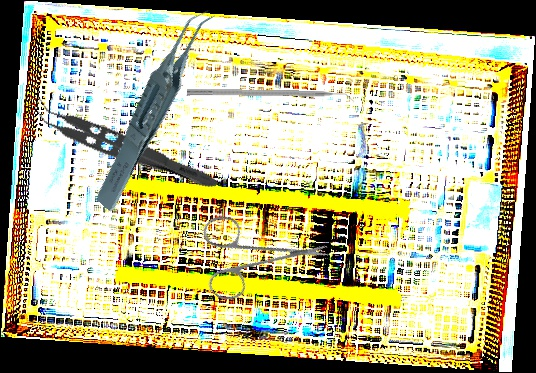Chopper: (186, 88, 355, 107)
Iris Scissors: (175, 176, 333, 335)
Tissue Forceps: (59, 4, 256, 214), (27, 95, 225, 194)
